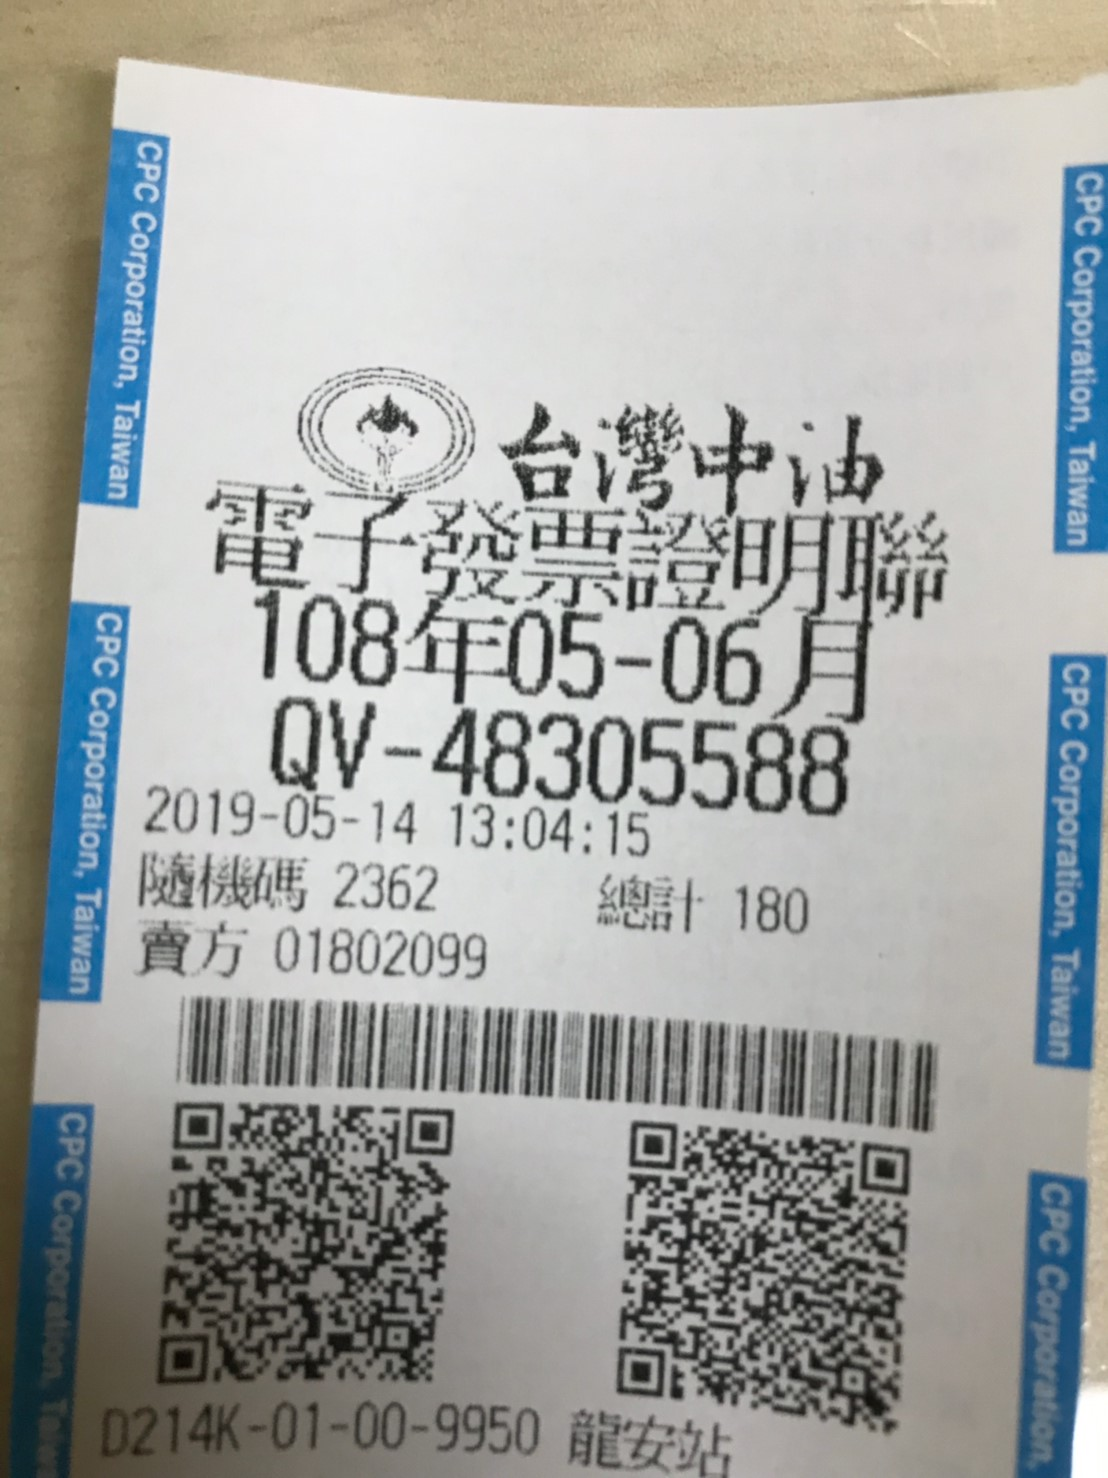Date_New: (254, 580, 871, 725)
Number_New: (428, 708, 852, 823)
